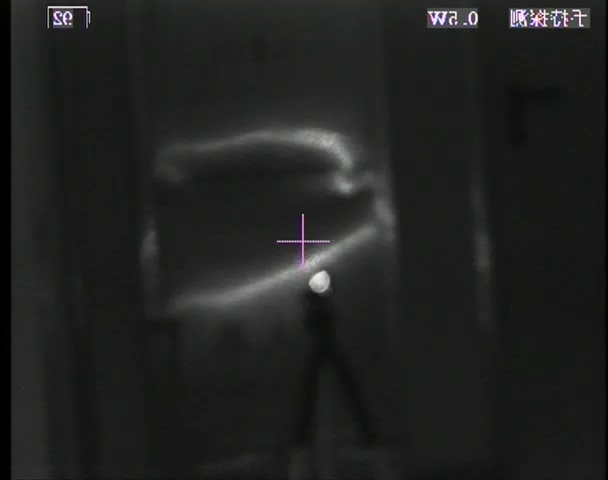my: (308, 273, 332, 295)
